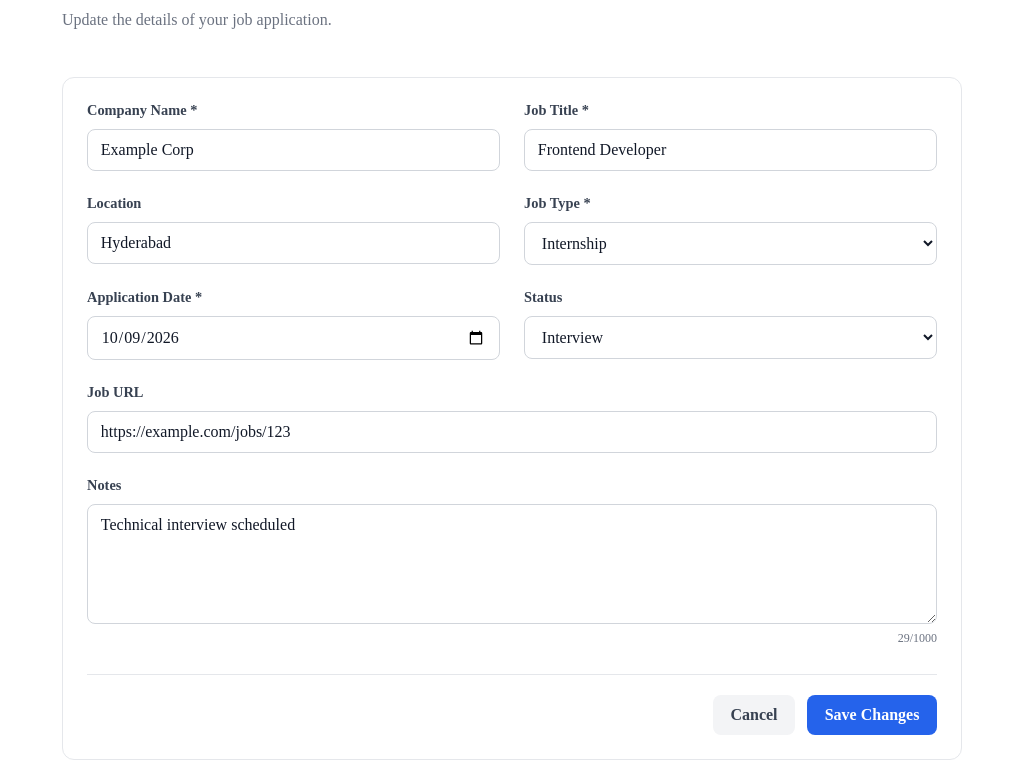
Test: EditApplication page › shows an error when updating fails
This screenshot has width=1024, height=763.
(page scrolled)
Click the button "Save Changes" at (872, 715), box [807,695,937,736]
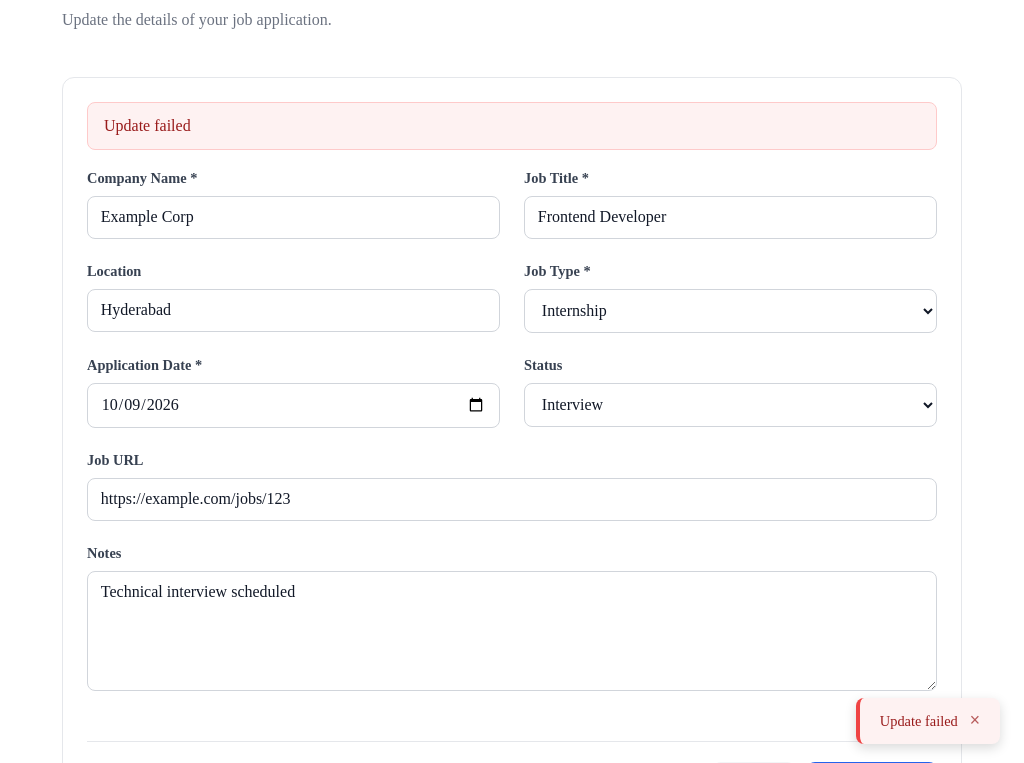
Expected: the text "Update failed" is shown, [87,102,937,150]
